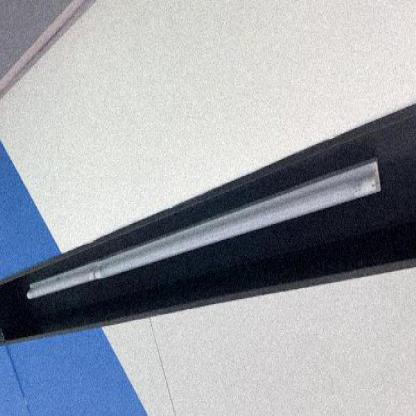light_off: (21, 107, 391, 322)
